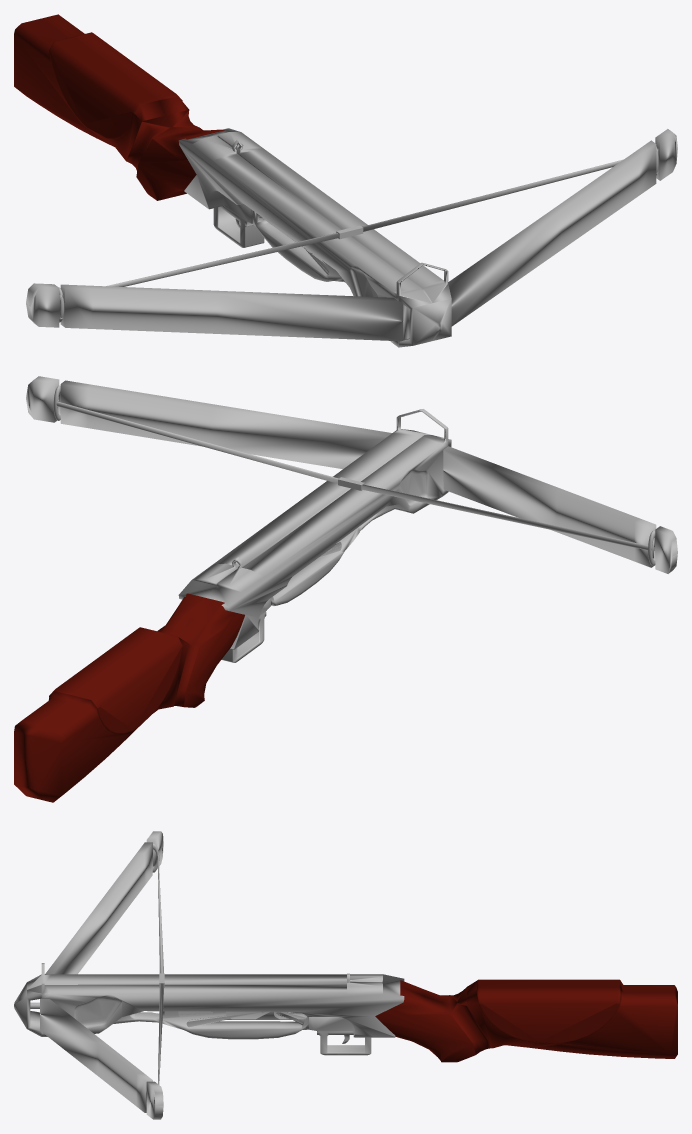
The model's file is CrossBow .fbx.
3 renders of one model, top to bottom at view 1: azimuth 30°, elevation 25°; view 2: azimuth 150°, elevation 25°; view 3: azimuth 270°, elevation 25°, orthographic. The views are drawn at different scales.
Visible parts, largest first — view 1: CrossBow, String L, String R; view 2: CrossBow, String R, String L; view 3: CrossBow.
Part boxes in pixels (left/top/right/bottom): CrossBow: left=14, top=14, right=677, bottom=347; String L: left=362, top=159, right=623, bottom=231; String R: left=106, top=233, right=339, bottom=286; CrossBow: left=14, top=376, right=677, bottom=802; String R: left=361, top=484, right=651, bottom=550; String L: left=56, top=401, right=338, bottom=483; CrossBow: left=14, top=831, right=677, bottom=1119.
Size of the model in its own units: 2716 by 460 by 2924.
